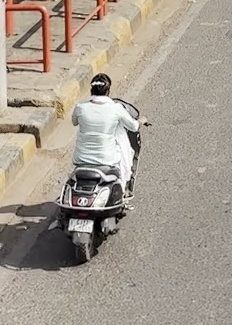BikeWithRider: (49, 68, 155, 265)
NoHelmet: (84, 69, 116, 103)
